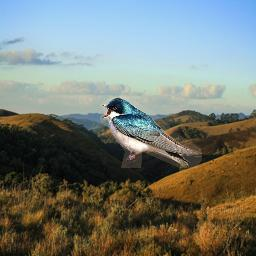Swallow: (100, 96, 202, 168)
